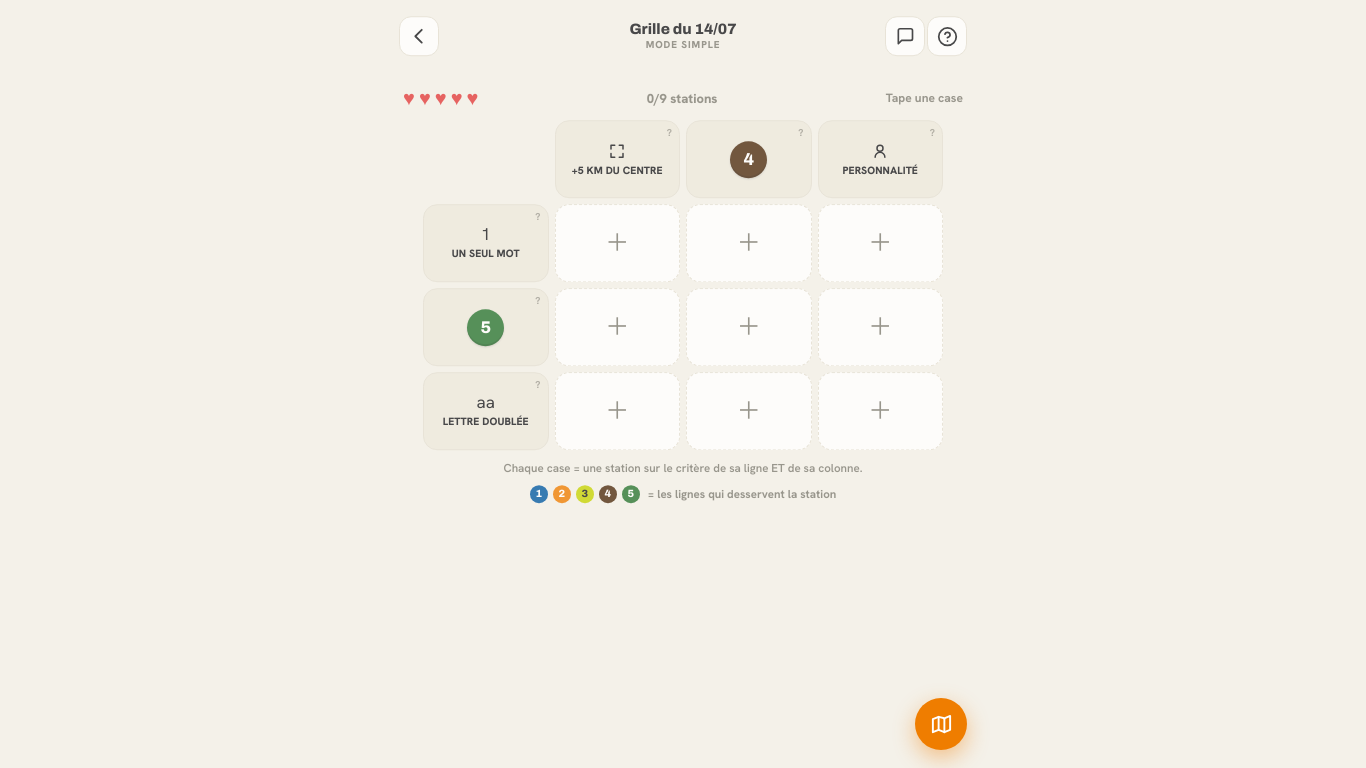
Scenario: app — partie complète du jour (jsdom) › un nom court ambigu (« Saint-Éloi ») demande lequel au lieu de coûter un cœur
Click the 6th button "＋" at (880, 327), box [818,288,943,366]
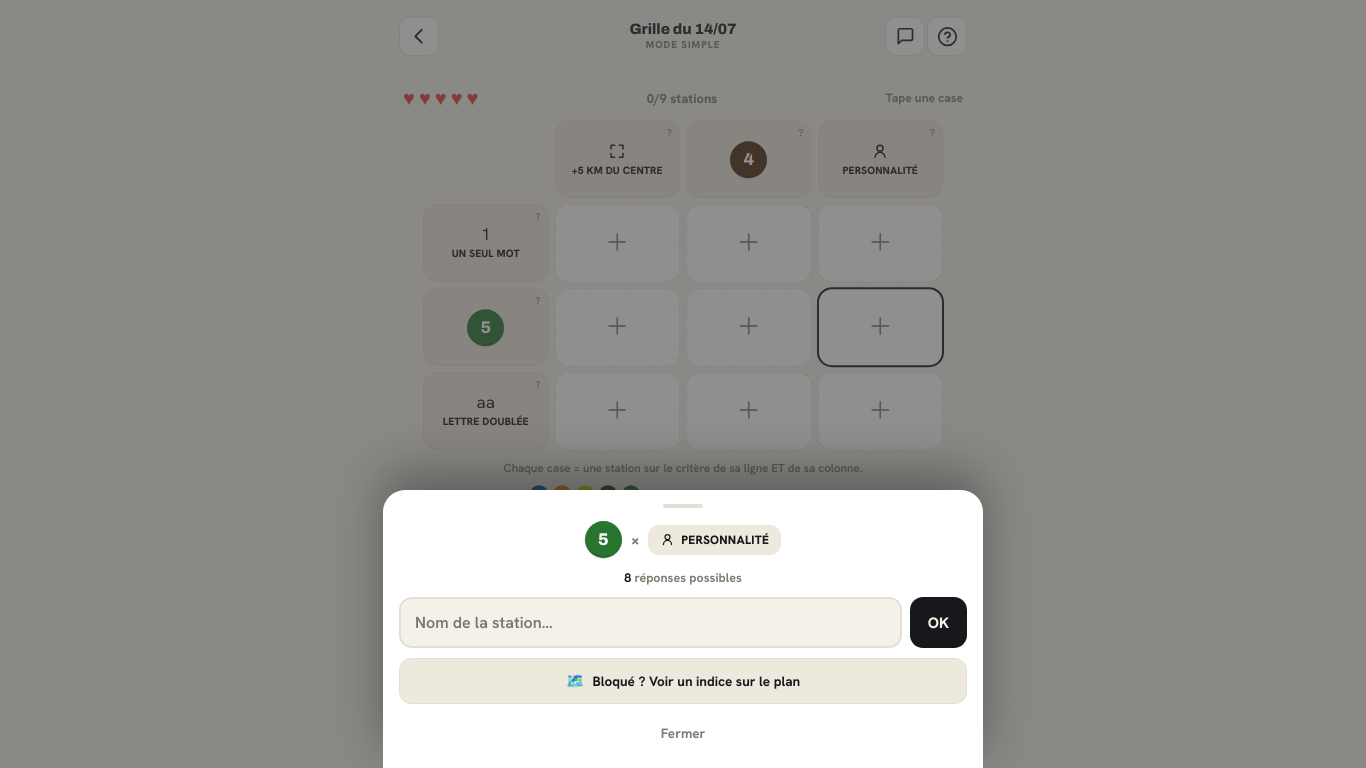
Type "Saint-Éloi" into the field with placeholder "Nom de la station…" at (650, 622), box [399,597,902,648]
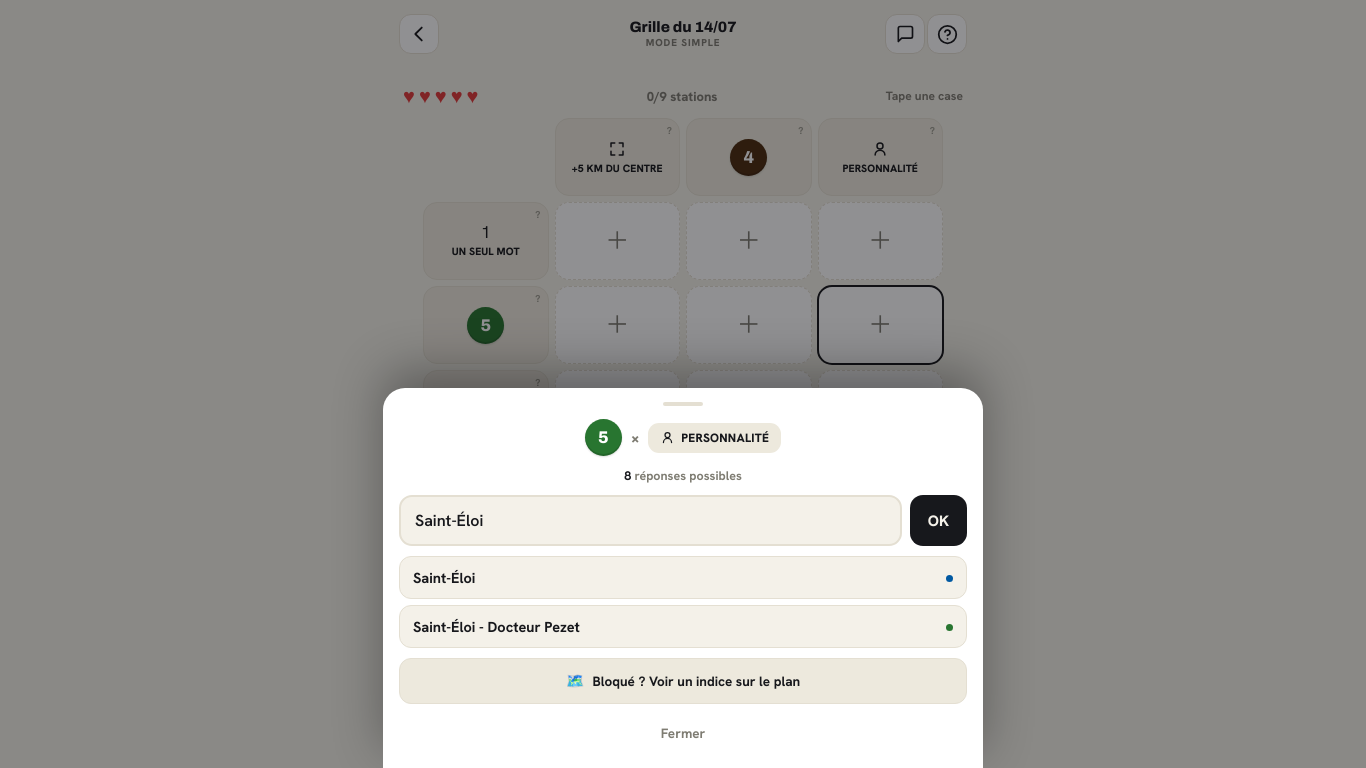
Click the button "OK" at (938, 520), box [910,495,967,546]
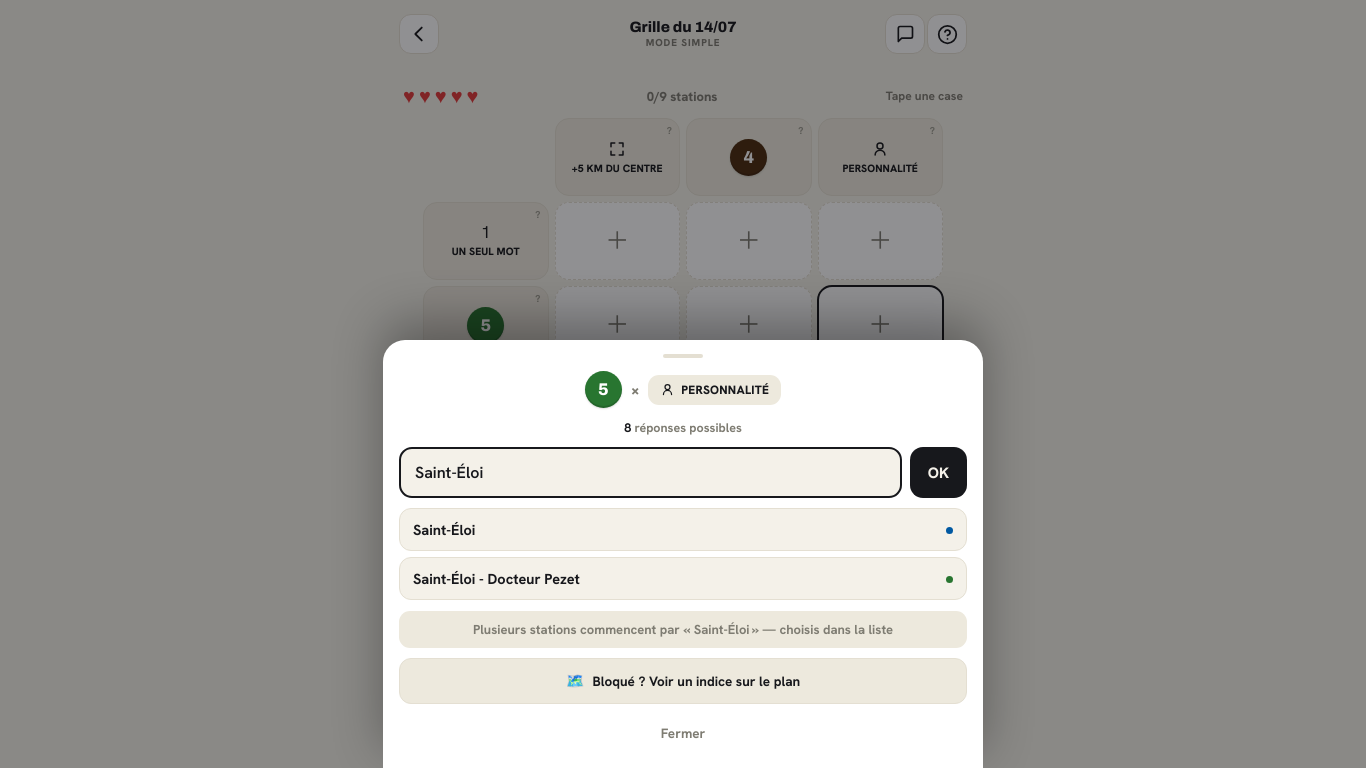
Expected: the text "Plusieurs stations commencent par" is shown, [473,621,893,638]
// La suggestion tranche : la case se remplit.
Click the button "Saint-Éloi - Docteur Pezet" at (496, 578), box [399,557,967,600]
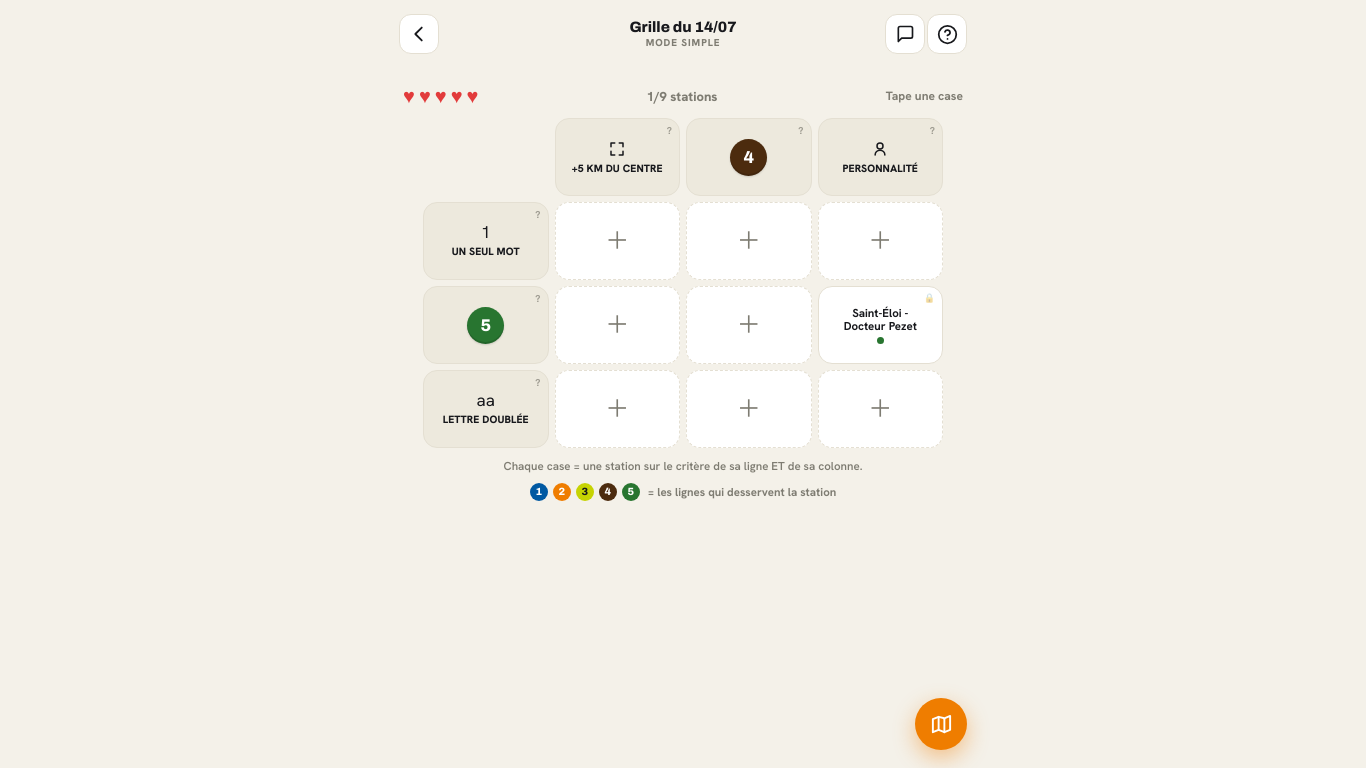
Expected: the text "Saint-Éloi - Docteur Pezet" is shown, [844,304,917,332]
